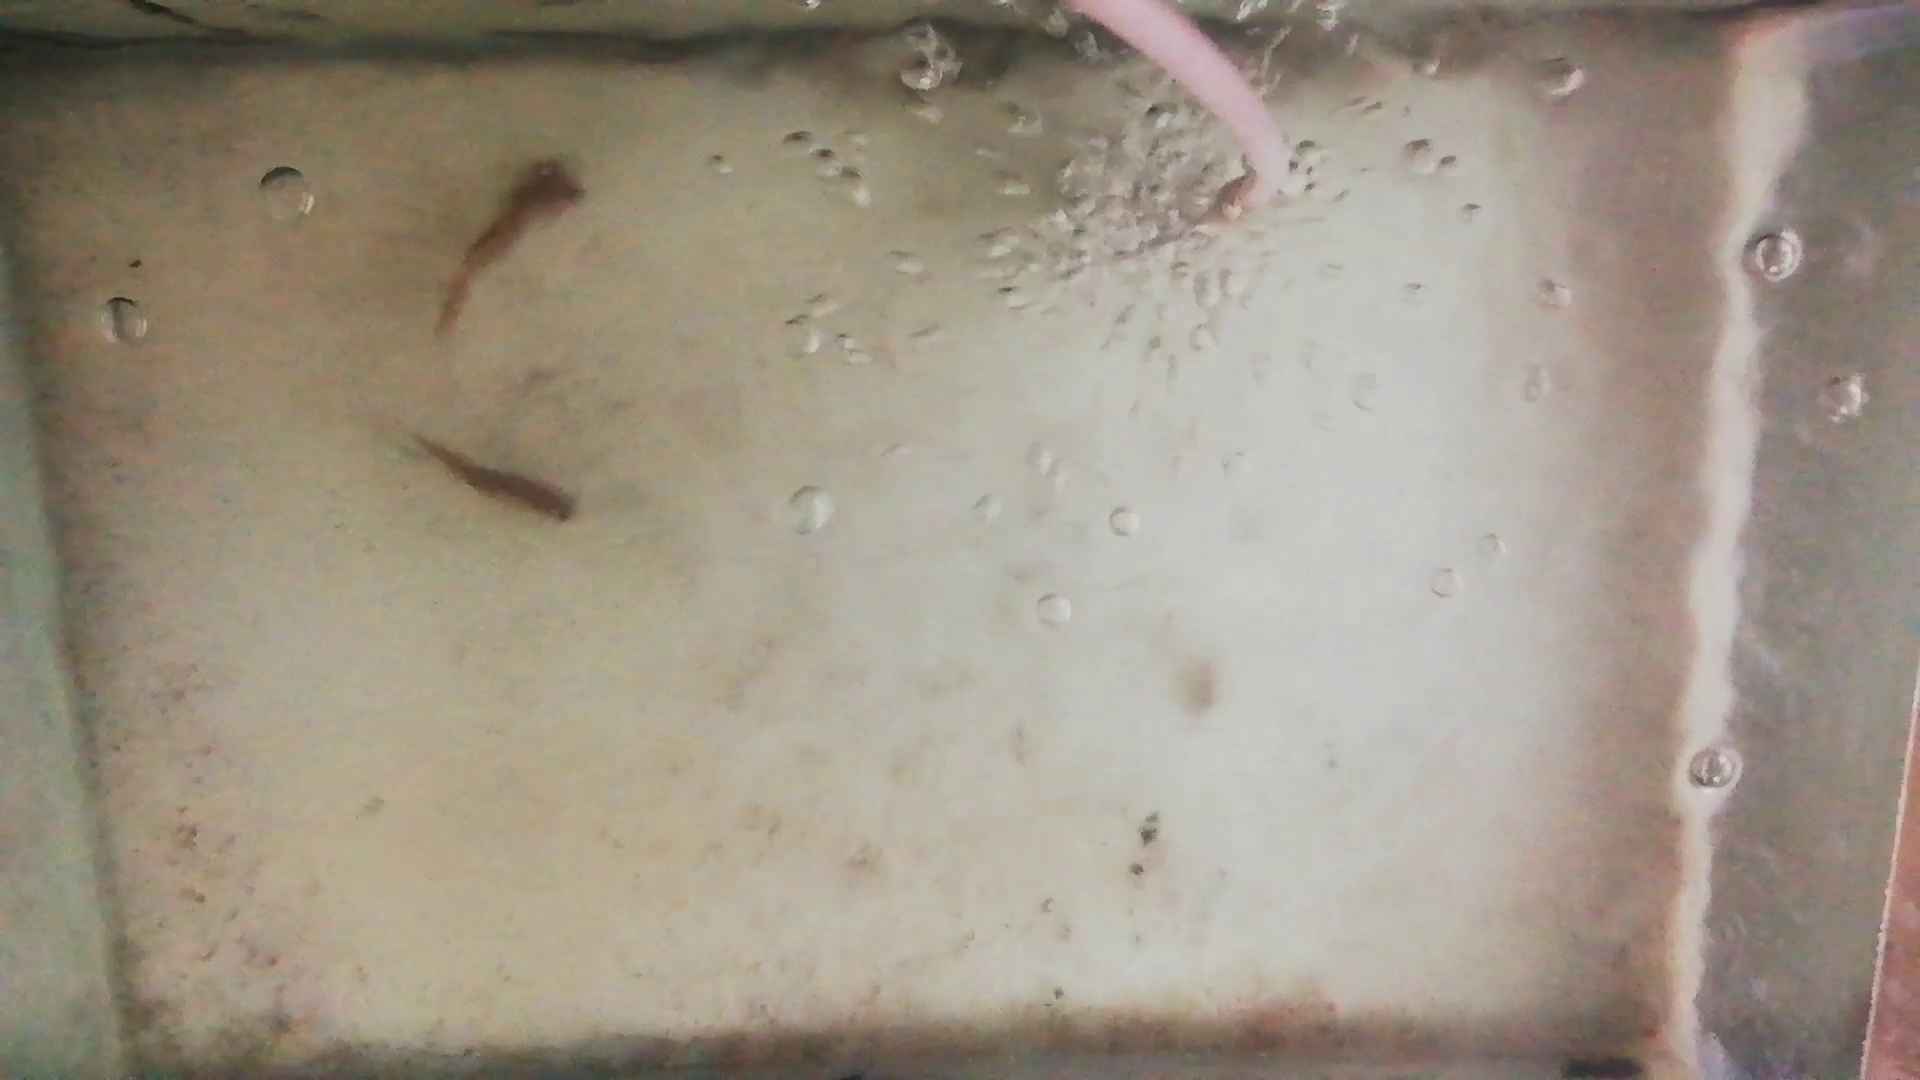fish: (431, 157, 591, 330), (400, 429, 583, 530)
